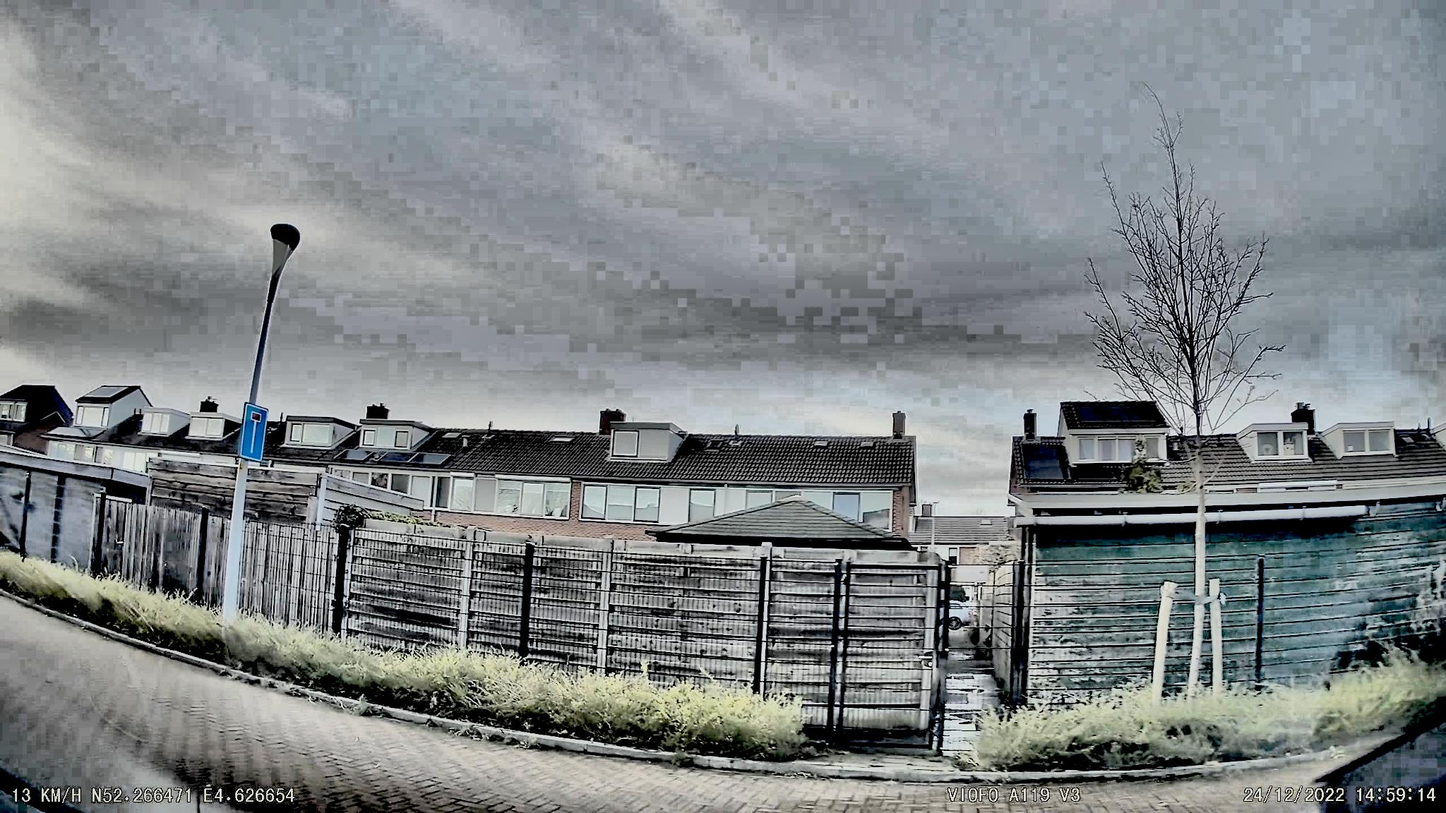Roads: (0, 593, 1446, 813)
